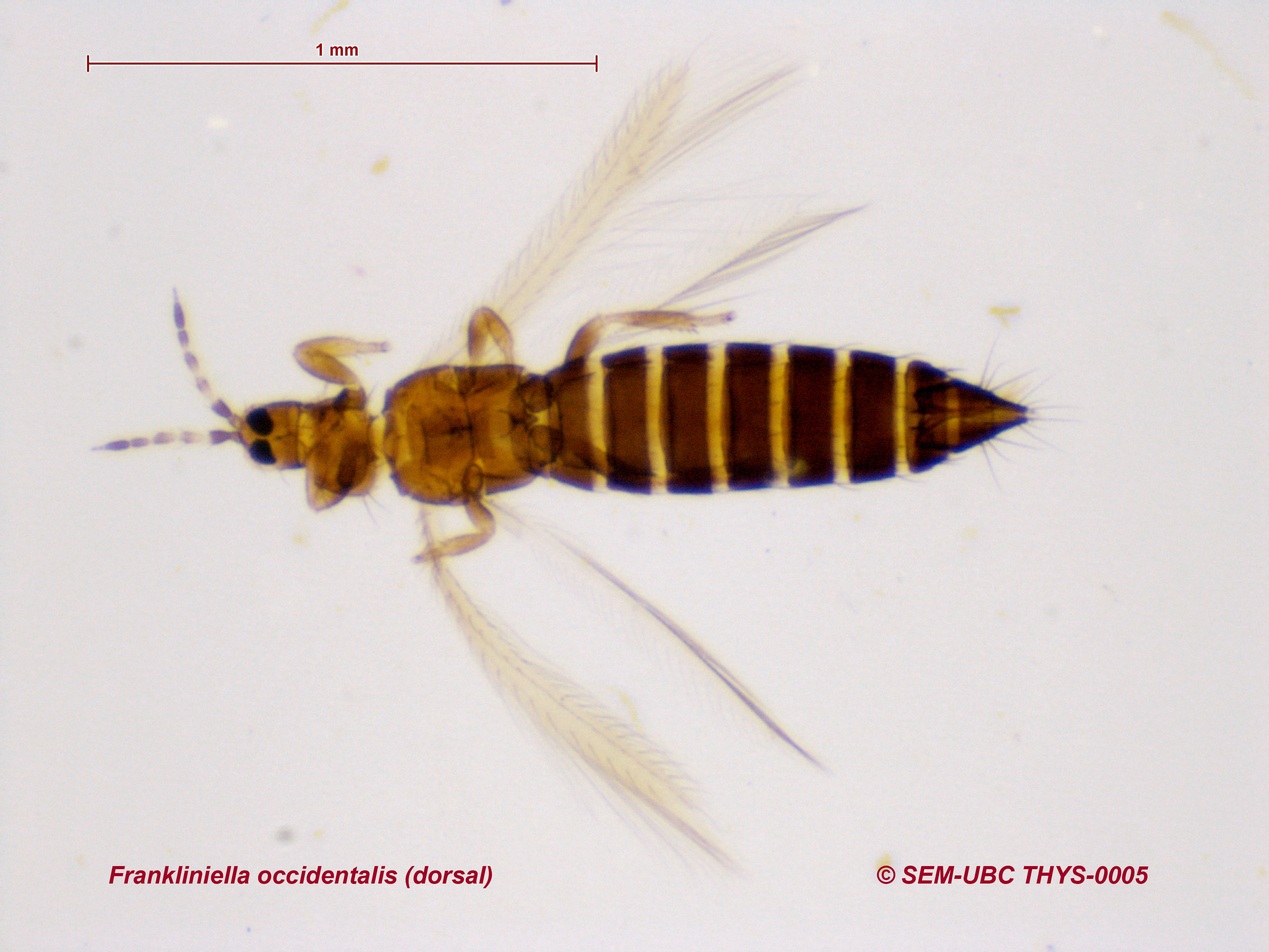Thripidae: (93, 35, 1091, 870)
